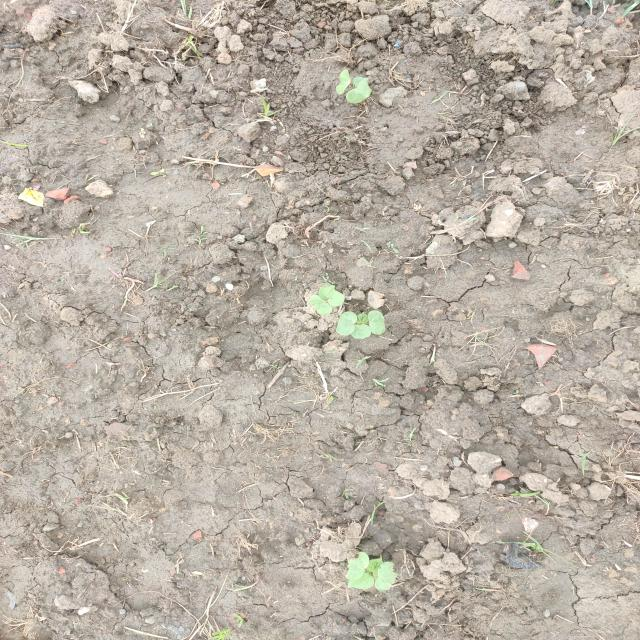seedling: (345, 552, 369, 580), (375, 562, 397, 591), (346, 81, 372, 104), (322, 285, 345, 307), (336, 311, 357, 335), (309, 295, 332, 315), (348, 572, 375, 589), (368, 310, 385, 335), (367, 557, 384, 581), (336, 70, 351, 95), (351, 324, 371, 339), (352, 77, 369, 87), (356, 311, 369, 324), (318, 287, 327, 300)
